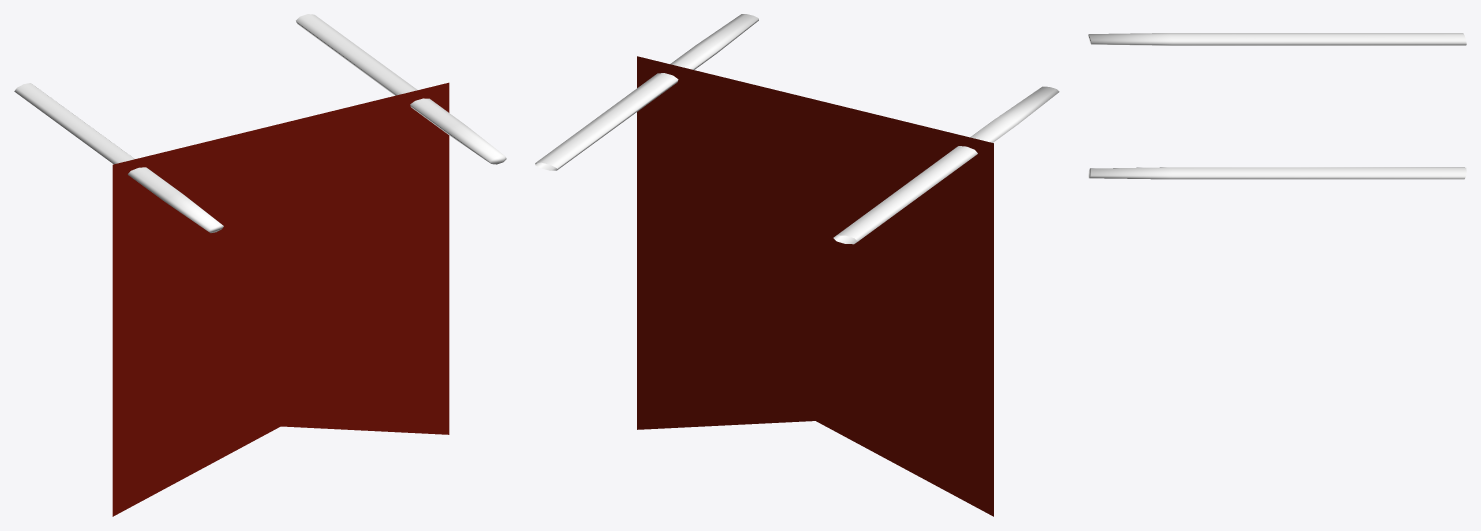
File: cloth_red.glb
3 renders of one model, left to right at view 1: azimuth 30°, elevation 25°; view 2: azimuth 150°, elevation 25°; view 3: azimuth 270°, elevation 25°, orthographic. The views are drawn at different scales.
Visible parts, largest first — view 1: Banner_1_Cloth; view 2: Banner_1_Cloth; view 3: Banner_1_Cloth.
Boxes of the visible parts, x1,y1,x2,y2 form: Banner_1_Cloth: [14, 14, 506, 516]; Banner_1_Cloth: [535, 14, 1059, 516]; Banner_1_Cloth: [1088, 33, 1466, 179].
Size of the model in its own units: 1 by 1 by 1.
